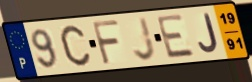9: (29, 27, 59, 70)
C: (59, 24, 92, 68)
E: (155, 13, 198, 61)
F: (90, 19, 122, 67)
J: (132, 16, 159, 63), (197, 12, 220, 55)
